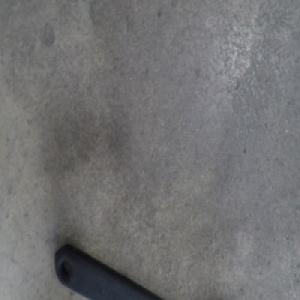AdjustableWrench: (55, 244, 165, 299)
